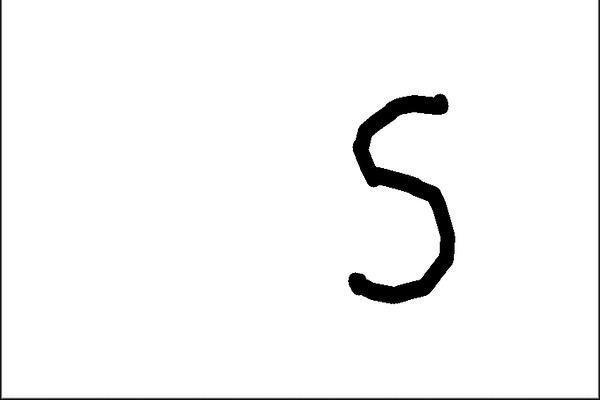S: (338, 86, 462, 308)
